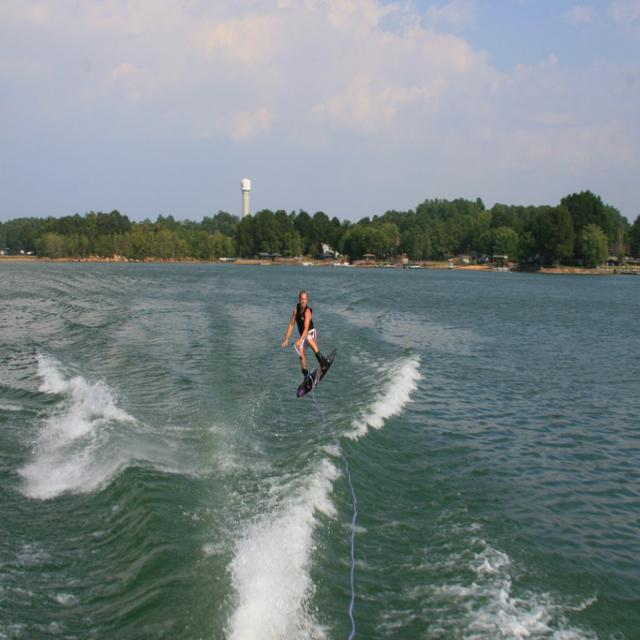Person: (282, 290, 328, 388)
